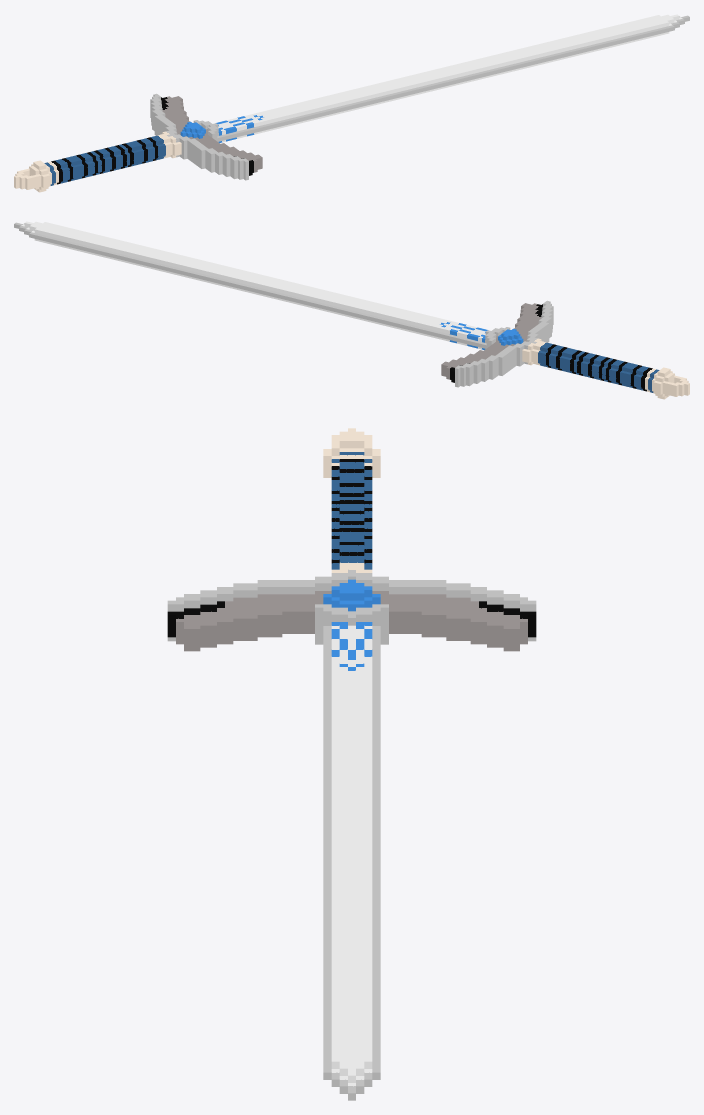
Rendered from [原神]无锋剑.gltf.
The picture shows the model from 3 angles, top to bottom: view 1: azimuth 30°, elevation 25°; view 2: azimuth 150°, elevation 25°; view 3: azimuth 270°, elevation 25°; orthographic projection. The views are drawn at different scales.
Parts seen in each view (by area): view 1: Object; view 2: Object; view 3: Object.
Part boxes in pixels (bbox=[...]): Object: bbox=[14, 14, 689, 192]; Object: bbox=[14, 221, 689, 399]; Object: bbox=[167, 428, 536, 1100].
Bounding box in the file's own units: 190 × 7 × 45.
Materials: 1 (1 with a texture image).
